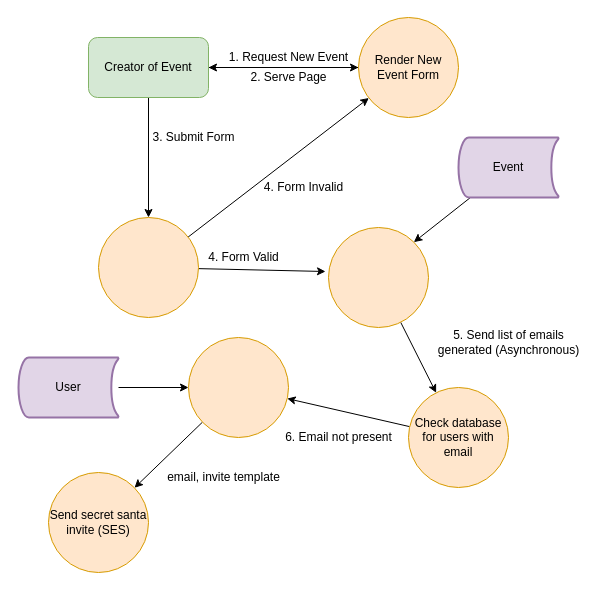
Image size: 605x590. Some labels were removed from this diagram. The shapes that lost their labels are listed below. From the top down, each one's centre as x and y in pixels, then its label:
At point 148,267: "Validate Form Information".
At point 378,277: "Create new event and persist".
At point 238,387: "Create Unverified account".
